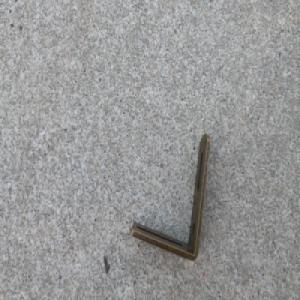MetalPart: (130, 131, 211, 261)
